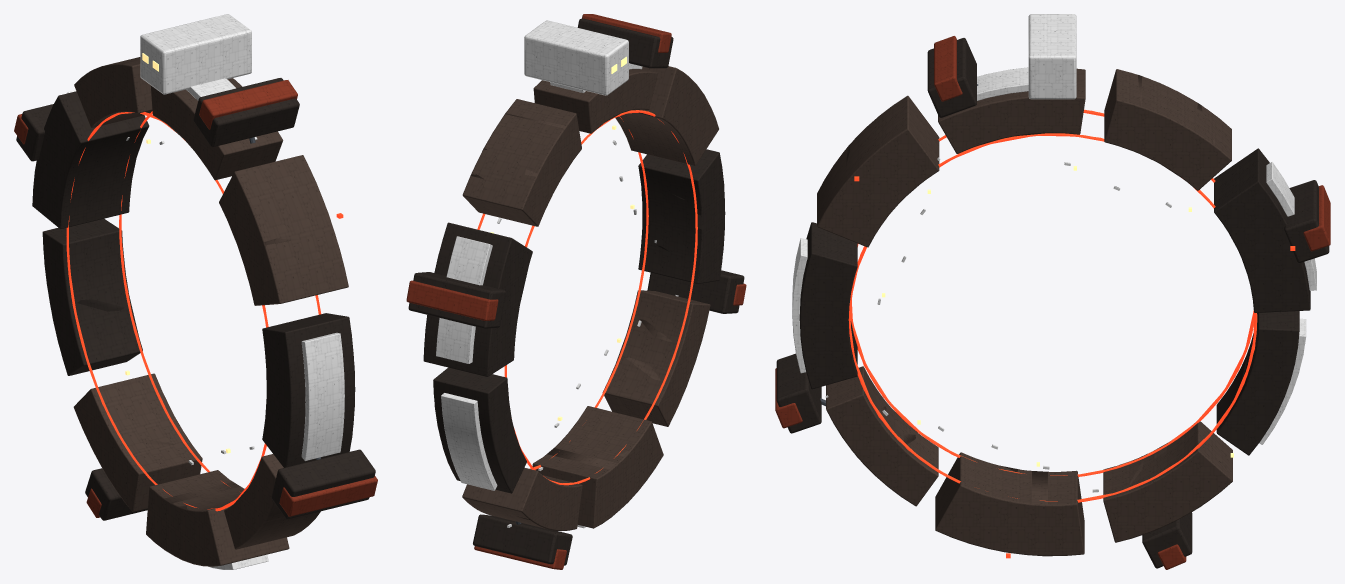
File: place_gate_reach.glb
The picture shows the model from 3 angles, left to right: view 1: azimuth 30°, elevation 25°; view 2: azimuth 150°, elevation 25°; view 3: azimuth 270°, elevation 25°; orthographic projection. The views are drawn at different scales.
Visible parts, largest first — view 1: LOD0_Hull, LOD0_deadmetal_reach, LOD0_Armor, LOD0_Warning_reach, LOD2_HOOK_NAV_PORT_reach, LOD2_Hull, LOD1_deadmetal_reach, LOD0_HOOK_NAV_PORT_reach, LOD2_deadmetal_reach, LOD1_Hull, LOD1_Warning_reach, LOD1_Armor; view 2: LOD0_Hull, LOD0_deadmetal_reach, LOD0_Armor, LOD0_Warning_reach, LOD2_Hull, LOD2_HOOK_NAV_PORT_reach, LOD1_deadmetal_reach, LOD0_HOOK_NAV_PORT_reach, LOD1_Hull, LOD2_deadmetal_reach, LOD1_Armor; view 3: LOD0_Hull, LOD0_deadmetal_reach, LOD0_Armor, LOD0_Warning_reach, LOD2_HOOK_NAV_PORT_reach, LOD0_HOOK_NAV_PORT_reach, LOD2_Hull, LOD1_Hull, LOD1_deadmetal_reach, LOD1_HOOK_NAV_PORT_reach.
Part boxes in pixels (x1,y1,x2,y2): LOD0_Hull: [74, 57, 348, 566]; LOD0_deadmetal_reach: [16, 78, 375, 520]; LOD0_Armor: [67, 14, 344, 569]; LOD0_Warning_reach: [14, 80, 377, 517]; LOD2_HOOK_NAV_PORT_reach: [66, 111, 320, 510]; LOD2_Hull: [80, 59, 346, 566]; LOD1_deadmetal_reach: [17, 78, 375, 520]; LOD0_HOOK_NAV_PORT_reach: [66, 111, 343, 511]; LOD2_deadmetal_reach: [23, 97, 375, 520]; LOD1_Hull: [74, 64, 345, 566]; LOD1_Warning_reach: [15, 80, 377, 517]; LOD1_Armor: [140, 14, 344, 569]; LOD0_Hull: [462, 66, 718, 530]; LOD0_deadmetal_reach: [408, 18, 744, 565]; LOD0_Armor: [436, 20, 642, 527]; LOD0_Warning_reach: [406, 14, 746, 569]; LOD2_Hull: [469, 72, 715, 530]; LOD2_HOOK_NAV_PORT_reach: [480, 110, 697, 485]; LOD1_deadmetal_reach: [409, 18, 744, 563]; LOD0_HOOK_NAV_PORT_reach: [477, 110, 697, 485]; LOD1_Hull: [462, 68, 715, 530]; LOD2_deadmetal_reach: [409, 19, 730, 562]; LOD1_Armor: [436, 20, 631, 481]; LOD0_Hull: [817, 69, 1232, 556]; LOD0_deadmetal_reach: [776, 38, 1329, 568]; LOD0_Armor: [792, 14, 1316, 444]; LOD0_Warning_reach: [775, 36, 1330, 569]; LOD2_HOOK_NAV_PORT_reach: [849, 110, 1256, 502]; LOD0_HOOK_NAV_PORT_reach: [848, 109, 1295, 558]; LOD2_Hull: [819, 74, 1225, 556]; LOD1_Hull: [818, 68, 1232, 556]; LOD1_deadmetal_reach: [777, 39, 1329, 567]; LOD1_HOOK_NAV_PORT_reach: [849, 113, 1294, 557].
Size of what is drawn, in the model's own units: 15.62 by 82.69 by 80.87.
8 materials, 6 textured.
